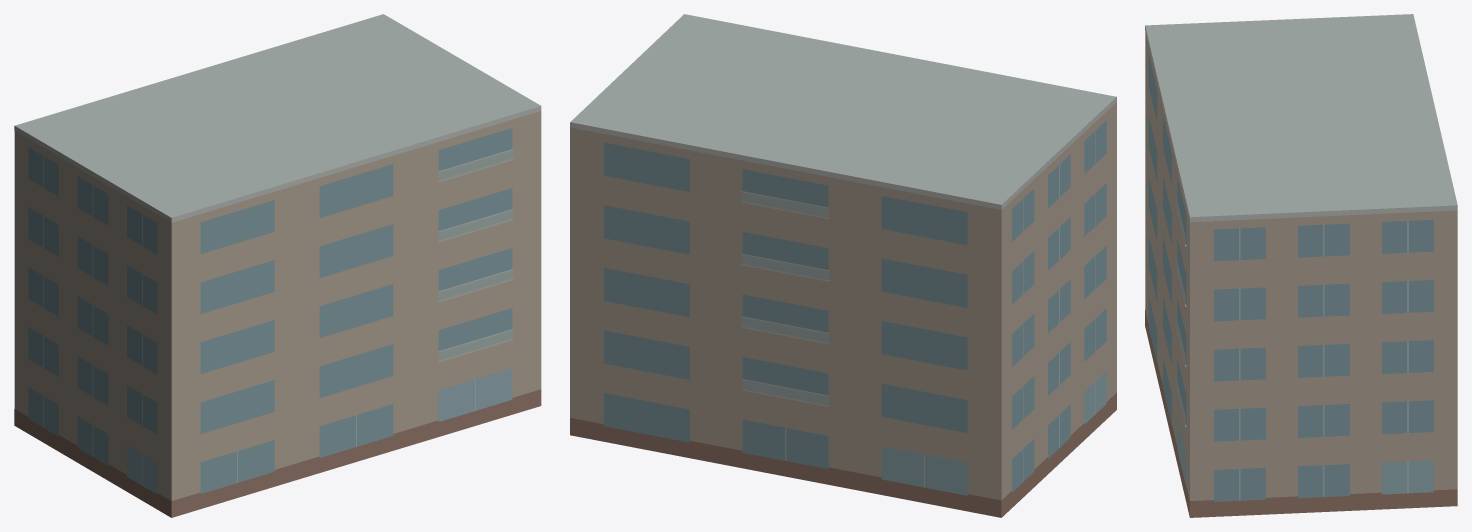
The model's file is survey-upis-32663626.glb.
3 views of the same model, side by side, from view 1: azimuth 30°, elevation 25°; view 2: azimuth 150°, elevation 25°; view 3: azimuth 270°, elevation 25° (orthographic). The views are drawn at different scales.
Visible parts, largest first — view 1: survey-upis-32663626.tmp; view 2: survey-upis-32663626.tmp; view 3: survey-upis-32663626.tmp.
Part boxes in pixels (bbox=[...]): survey-upis-32663626.tmp: bbox=[14, 14, 541, 517]; survey-upis-32663626.tmp: bbox=[570, 14, 1116, 517]; survey-upis-32663626.tmp: bbox=[1145, 14, 1457, 517].
Bounding box in the file's own units: 21.31 × 14.7 × 13.86.
